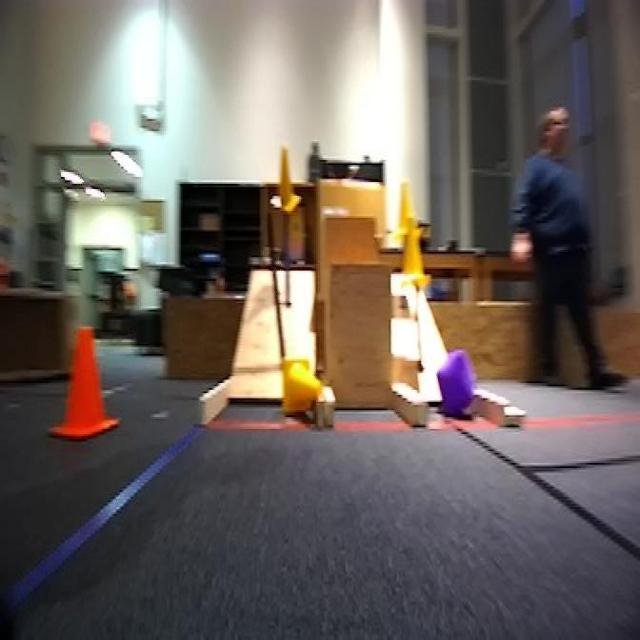frc_cone: (283, 363, 329, 417), (272, 146, 303, 213), (400, 178, 429, 242), (402, 220, 430, 282)
frc_cube: (436, 354, 474, 414)
